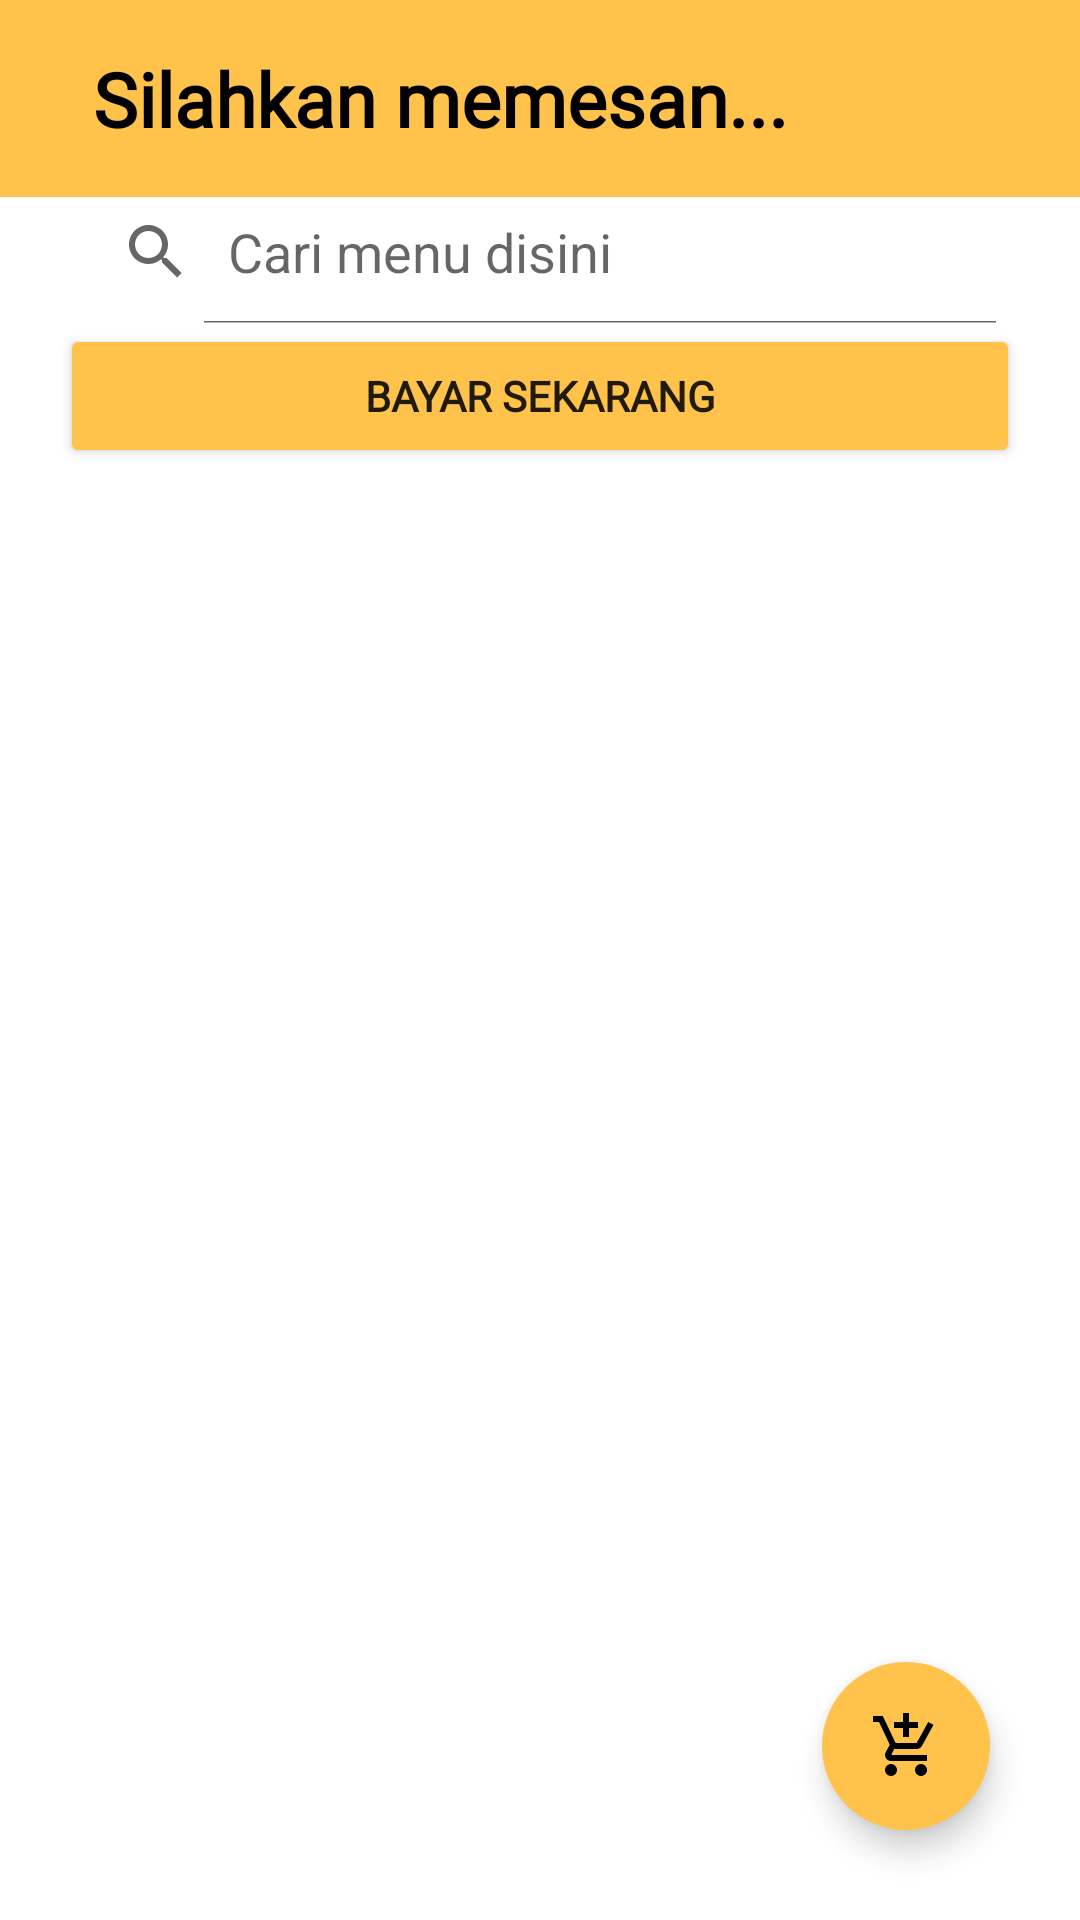

Locate icon controls on the screen. Image size 1080x1920, boxes as box=[x1, y1, x2, y2].
add shopping cart: box=[822, 1662, 990, 1830]
